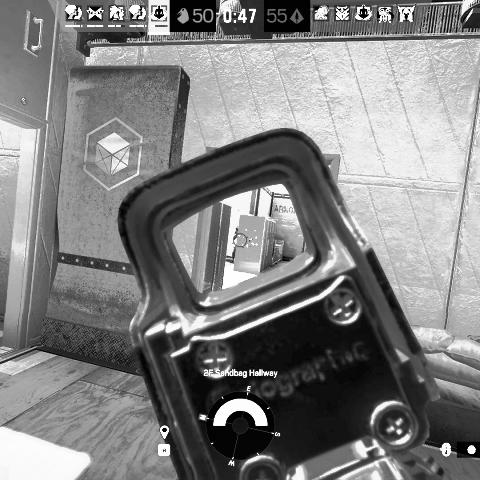Character: (231, 224, 240, 264)
Head: (235, 225, 238, 231)
